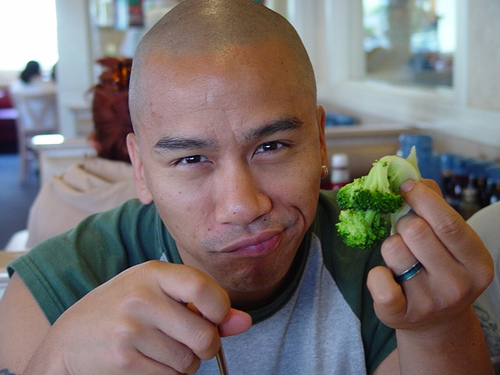broccoli: (336, 146, 423, 249)
